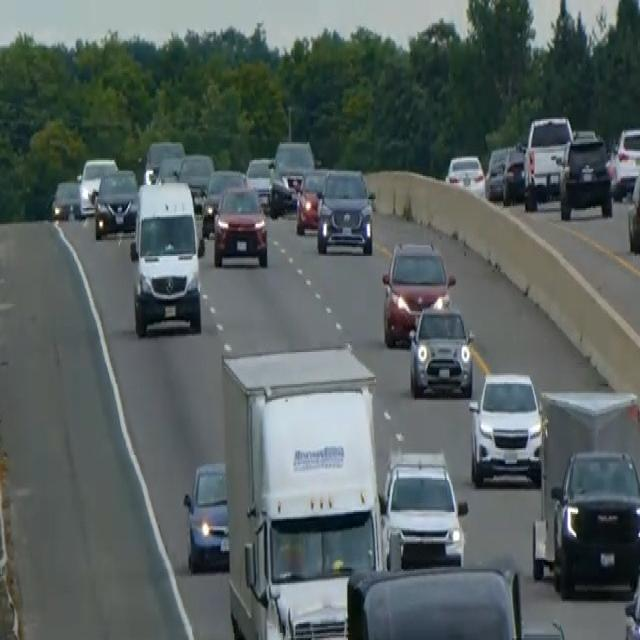car: (343, 560, 564, 638), (549, 444, 639, 596), (380, 448, 467, 569), (468, 368, 543, 485), (381, 238, 455, 347), (408, 304, 474, 398), (182, 458, 230, 572), (316, 166, 374, 254), (558, 130, 613, 220), (212, 182, 268, 268), (522, 112, 573, 206), (268, 137, 315, 215), (93, 166, 139, 238), (201, 167, 245, 237), (76, 155, 118, 215), (294, 165, 328, 235), (177, 149, 214, 210), (610, 125, 639, 199), (445, 151, 485, 199), (143, 137, 184, 183), (244, 154, 274, 210), (484, 144, 511, 201), (501, 146, 526, 204), (623, 556, 639, 638), (50, 178, 81, 220), (626, 160, 639, 254), (155, 153, 184, 183)
lorry: (220, 342, 385, 638)
minibus: (127, 176, 204, 340)
